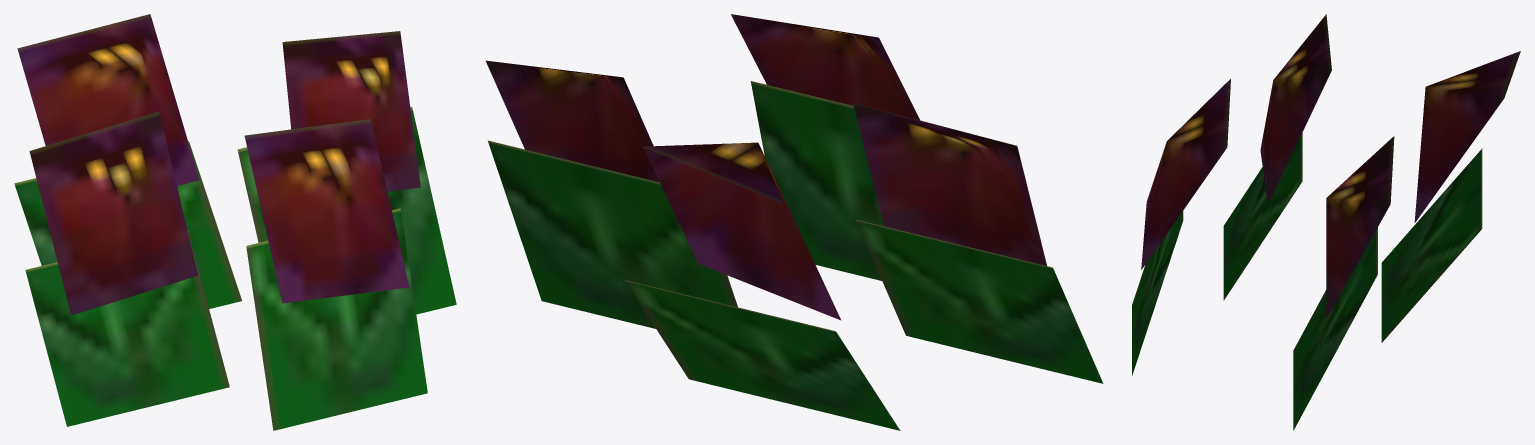
The model's file is flw_tulip_bk.dae.
3 views of the same model, side by side, from view 1: azimuth 30°, elevation 25°; view 2: azimuth 150°, elevation 25°; view 3: azimuth 270°, elevation 25° (orthographic). The views are drawn at different scales.
Parts seen in each view (by area): view 1: flw_tulip_bk; view 2: flw_tulip_bk; view 3: flw_tulip_bk.
Part boxes in pixels (x1,y1,x2,y2): flw_tulip_bk: [14, 14, 456, 430]; flw_tulip_bk: [486, 14, 1103, 430]; flw_tulip_bk: [1132, 14, 1520, 430].
Bounding box in the file's own units: 30.95 × 17.79 × 25.83.
Materials: 1 (1 with a texture image).
